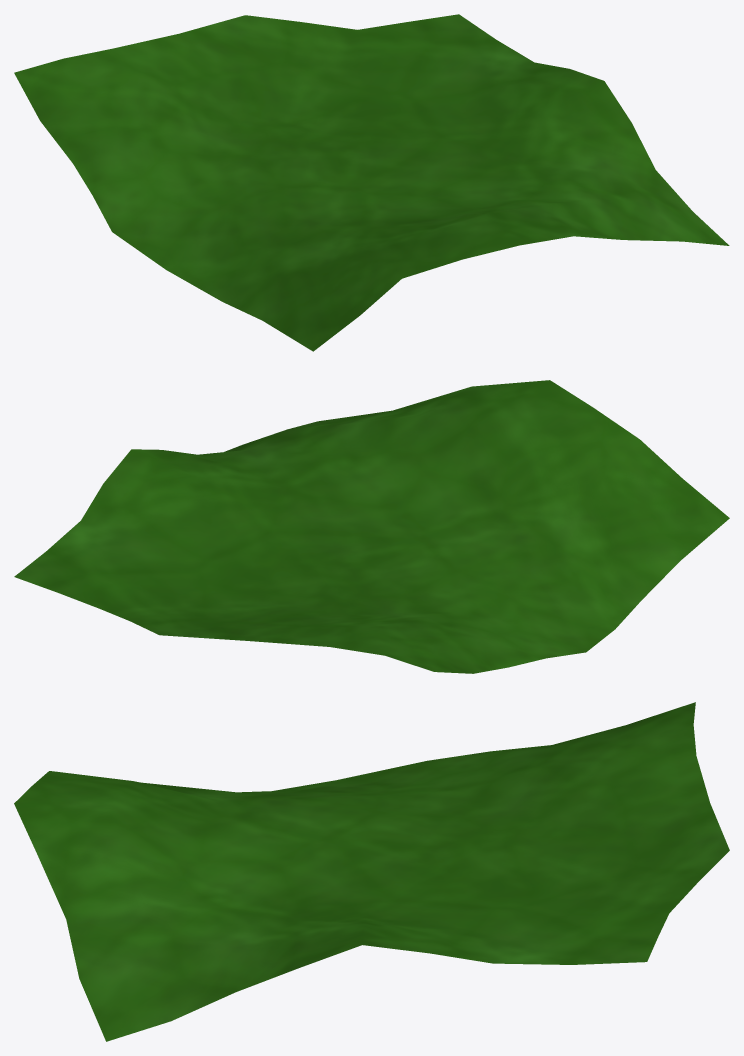
Rendered from ground.fbx.
3 renders of one model, top to bottom at view 1: azimuth 30°, elevation 25°; view 2: azimuth 150°, elevation 25°; view 3: azimuth 270°, elevation 25°, orthographic. The views are drawn at different scales.
Visible parts, largest first — view 1: Plane; view 2: Plane; view 3: Plane.
Boxes of the visible parts, <box> form: Plane: <box>14,14,729,351</box>; Plane: <box>14,380,729,673</box>; Plane: <box>14,702,729,1041</box>.
Size of the model in its own units: 39.26 by 7.34 by 46.54.
